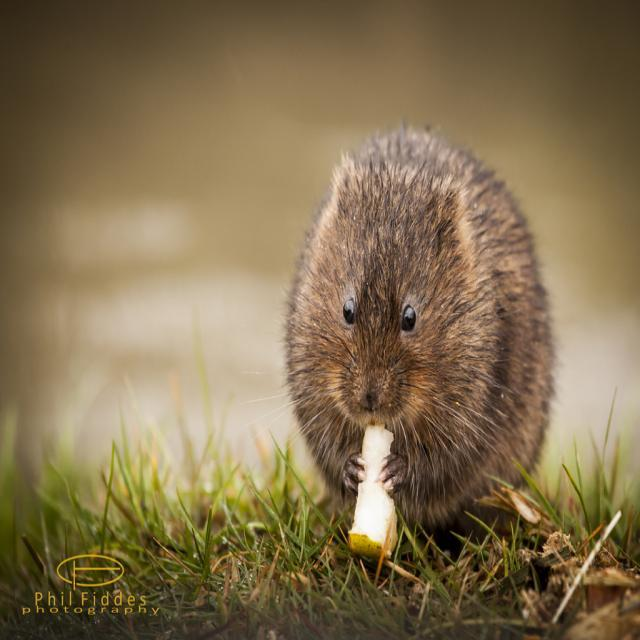rat: (279, 121, 557, 542)
